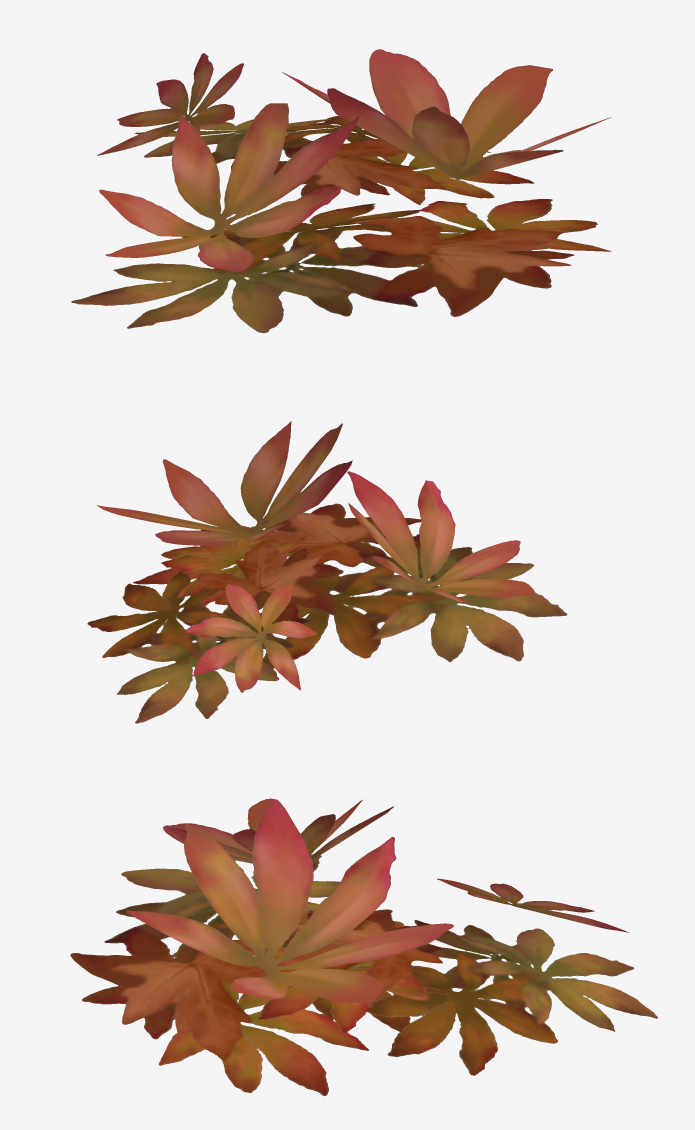
Rendered from CBS_FallenLeaves_03.FBX.
The picture shows the model from 3 angles, top to bottom: view 1: azimuth 30°, elevation 25°; view 2: azimuth 150°, elevation 25°; view 3: azimuth 270°, elevation 25°; orthographic projection. The views are drawn at different scales.
Parts seen in each view (by area): view 1: CBS_FallenLeaves_03; view 2: CBS_FallenLeaves_03; view 3: CBS_FallenLeaves_03.
Part boxes in pixels (x1=…): CBS_FallenLeaves_03: x1=71, y1=49, x2=611, y2=333; CBS_FallenLeaves_03: x1=87, y1=421, x2=567, y2=723; CBS_FallenLeaves_03: x1=70, y1=798, x2=657, y2=1096.
Size of the model in its own units: 38.41 by 13.13 by 34.75.
